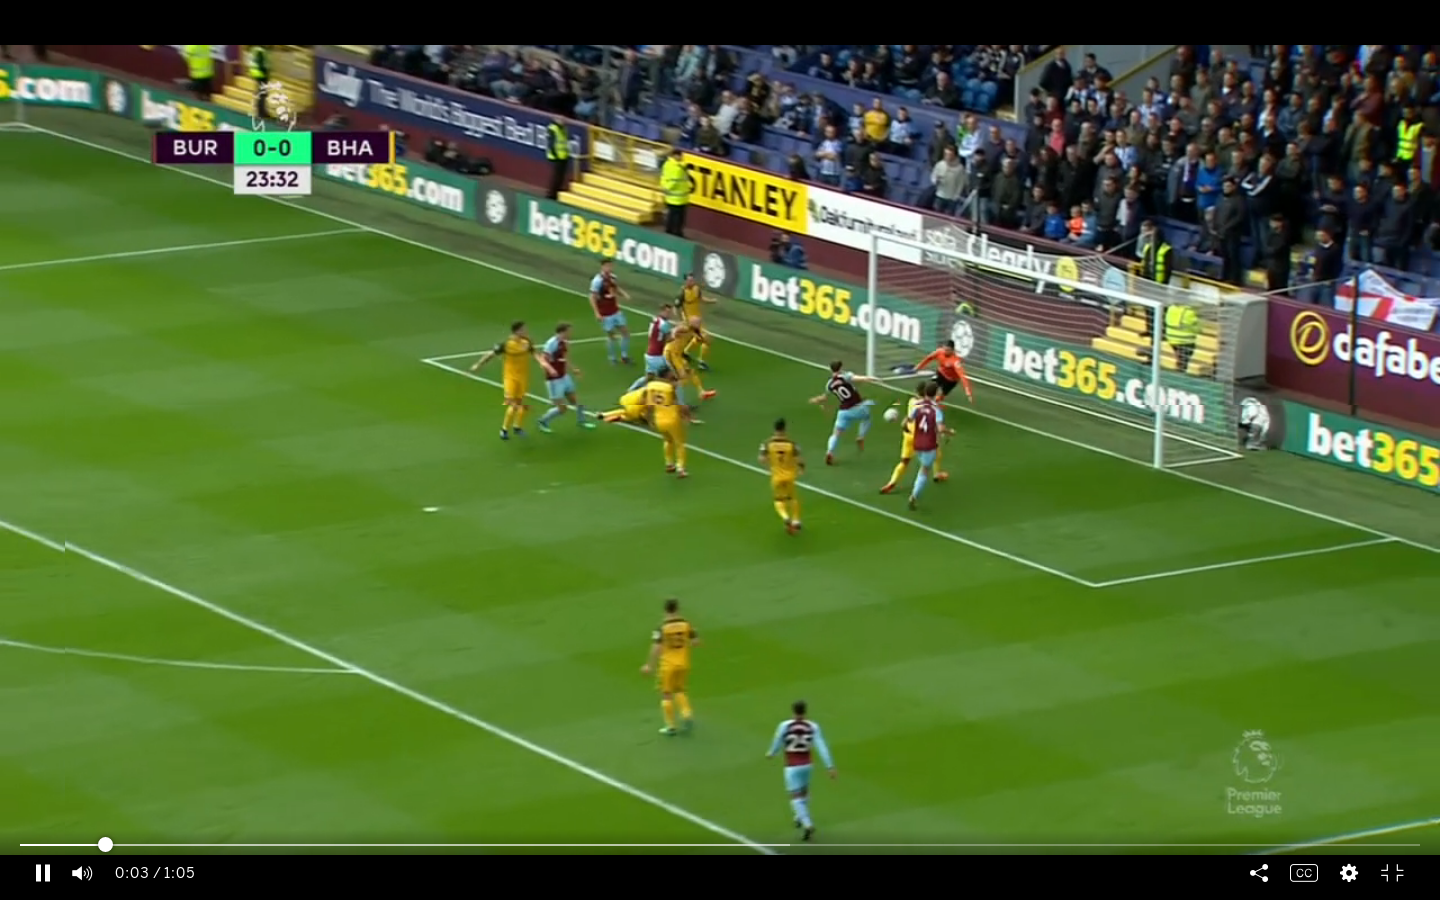soccer player: (762, 699, 839, 842), (641, 596, 708, 745), (755, 416, 815, 551), (912, 386, 979, 505), (485, 317, 538, 448), (821, 360, 876, 462), (645, 365, 690, 483), (542, 316, 587, 434), (588, 257, 635, 366), (922, 331, 975, 414), (681, 266, 716, 357), (642, 300, 667, 380)
soccerball: (882, 400, 901, 425)
